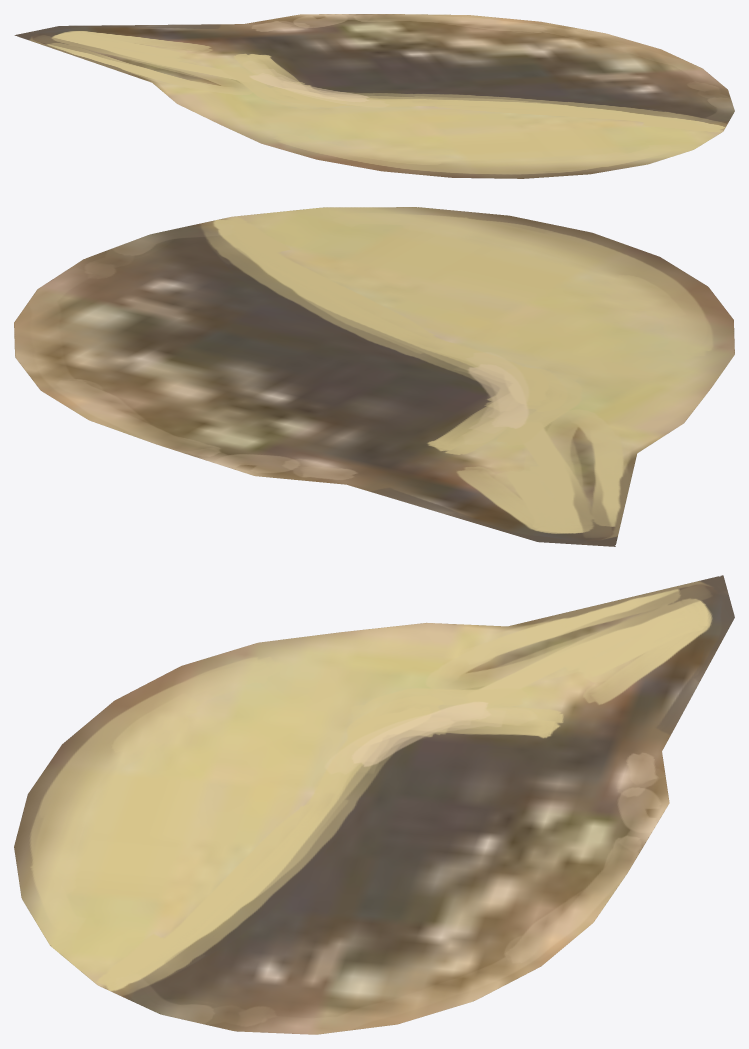
3 renders of one model, top to bottom at view 1: azimuth 30°, elevation 25°; view 2: azimuth 150°, elevation 25°; view 3: azimuth 270°, elevation 25°, orthographic. The views are drawn at different scales.
Visible parts, largest first — view 1: pasted__pDisc2; view 2: pasted__pDisc2; view 3: pasted__pDisc2.
Boxes of the visible parts, x1,y1,x2,y2 form: pasted__pDisc2: [14, 14, 734, 178]; pasted__pDisc2: [14, 207, 734, 546]; pasted__pDisc2: [14, 575, 734, 1034].
Size of the model in its own units: 0.9033 by 0.0956 by 0.7347.
